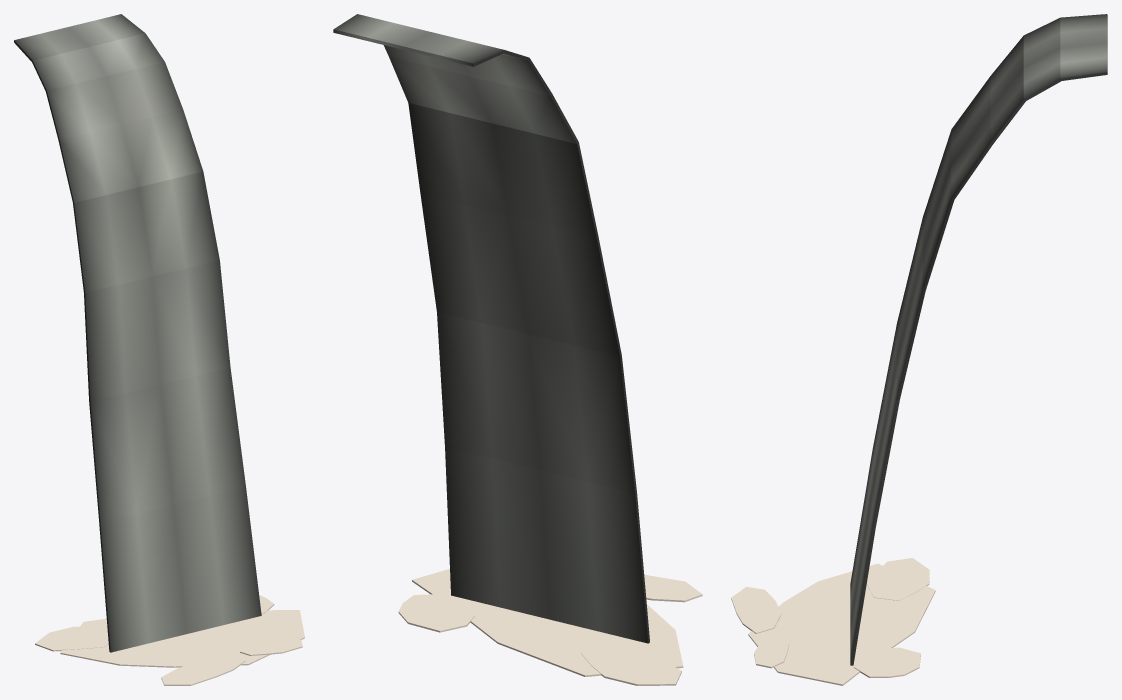
File: SM_VKI_Prop_Waterfall_Rock.fbx
3 renders of one model, left to right at view 1: azimuth 30°, elevation 25°; view 2: azimuth 150°, elevation 25°; view 3: azimuth 270°, elevation 25°, orthographic. The views are drawn at different scales.
Visible parts, largest first — view 1: SM_VKI_Prop_Waterfall_Rock.001; view 2: SM_VKI_Prop_Waterfall_Rock.001; view 3: SM_VKI_Prop_Waterfall_Rock.001.
Boxes of the visible parts, box(x1,y1,x2,y2) form: SM_VKI_Prop_Waterfall_Rock.001: box(14, 14, 304, 685); SM_VKI_Prop_Waterfall_Rock.001: box(333, 14, 702, 685); SM_VKI_Prop_Waterfall_Rock.001: box(731, 14, 1107, 685).
Bounding box in the file's own units: 1.17 × 2.53 × 1.48.
